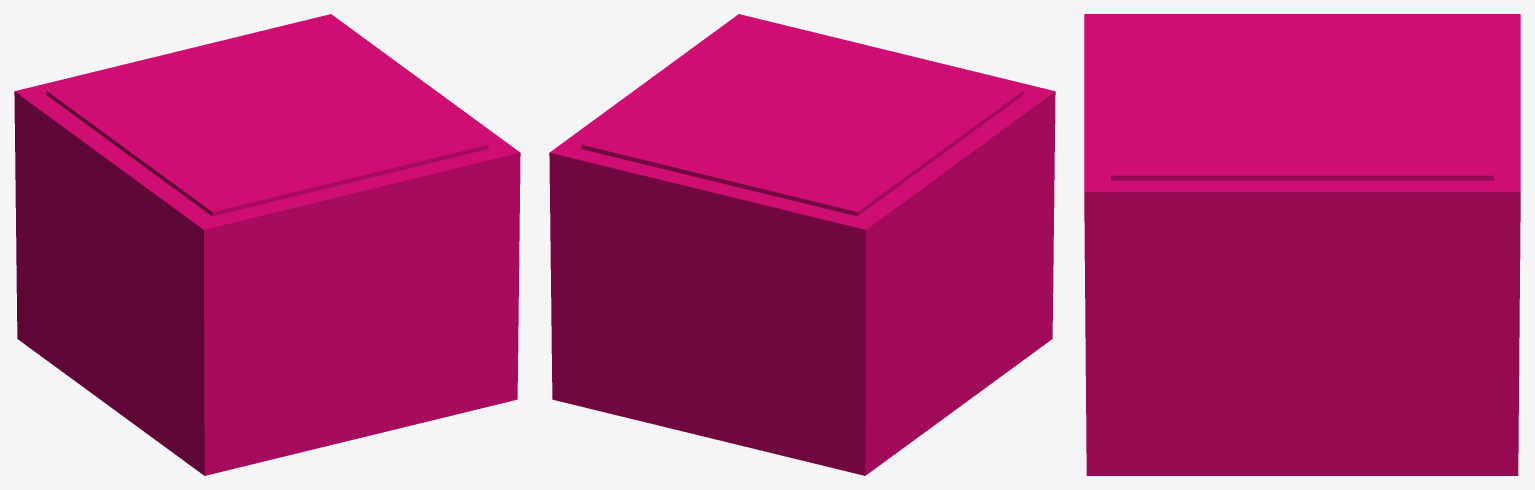
The model's file is First_Date Table.glb.
3 views of the same model, side by side, from view 1: azimuth 30°, elevation 25°; view 2: azimuth 150°, elevation 25°; view 3: azimuth 270°, elevation 25° (orthographic). The views are drawn at different scales.
Parts seen in each view (by area): view 1: Cube; view 2: Cube; view 3: Cube.
Part boxes in pixels (box(x1,y1,x2,y2)): Cube: box(14, 14, 520, 475); Cube: box(549, 14, 1055, 475); Cube: box(1084, 14, 1520, 475).
Size of the model in its own units: 7.5 by 5.69 by 7.77.
